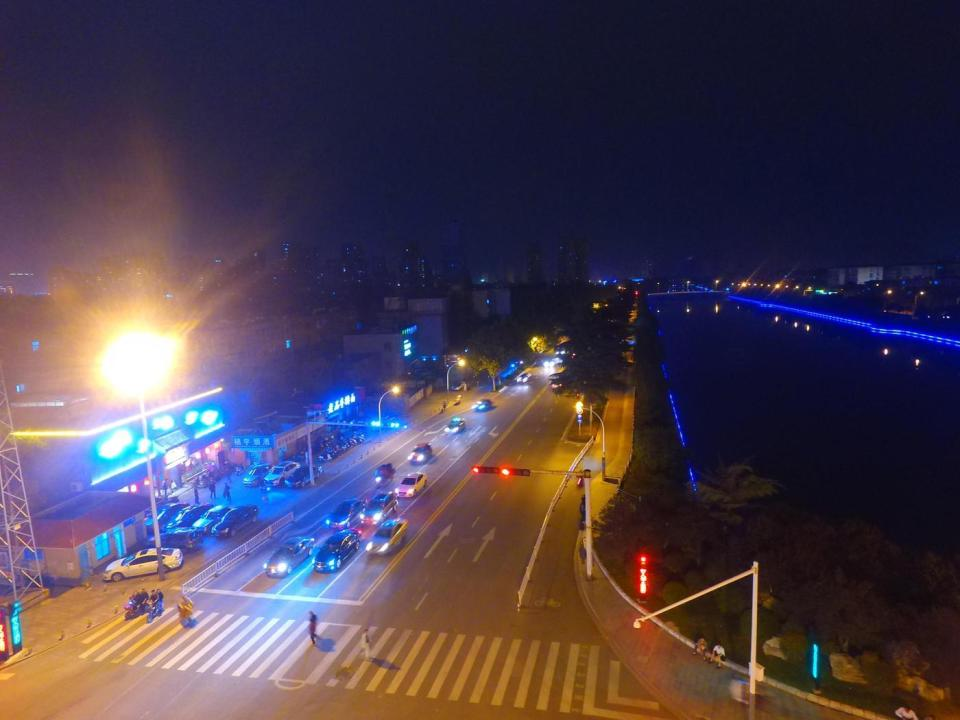car: (103, 549, 180, 583), (310, 529, 363, 574), (263, 536, 316, 580), (366, 518, 410, 558), (139, 501, 184, 538), (162, 501, 208, 536), (324, 497, 367, 534), (212, 507, 256, 541), (148, 528, 200, 555), (359, 491, 397, 527), (189, 505, 233, 534), (284, 464, 320, 490), (263, 464, 298, 487), (394, 474, 426, 498), (246, 464, 276, 483), (409, 443, 433, 466), (445, 417, 465, 435), (474, 398, 491, 412), (541, 357, 555, 370), (554, 344, 567, 358), (516, 373, 530, 383)
